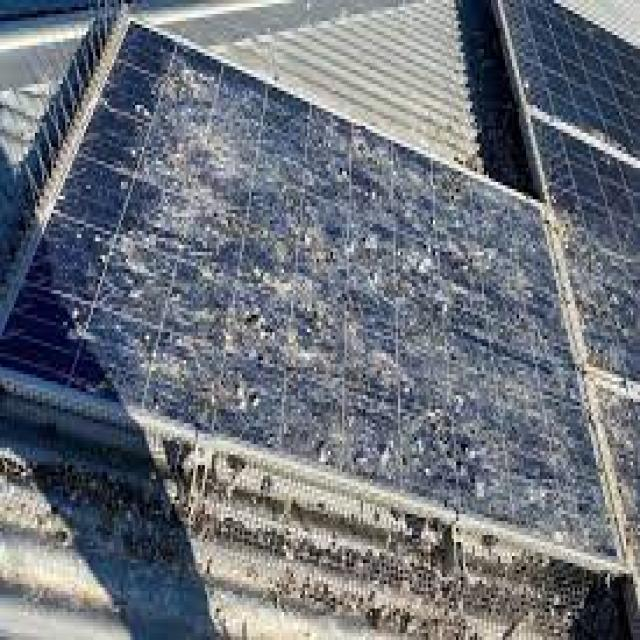dust-solar-panel: (0, 20, 640, 629)
